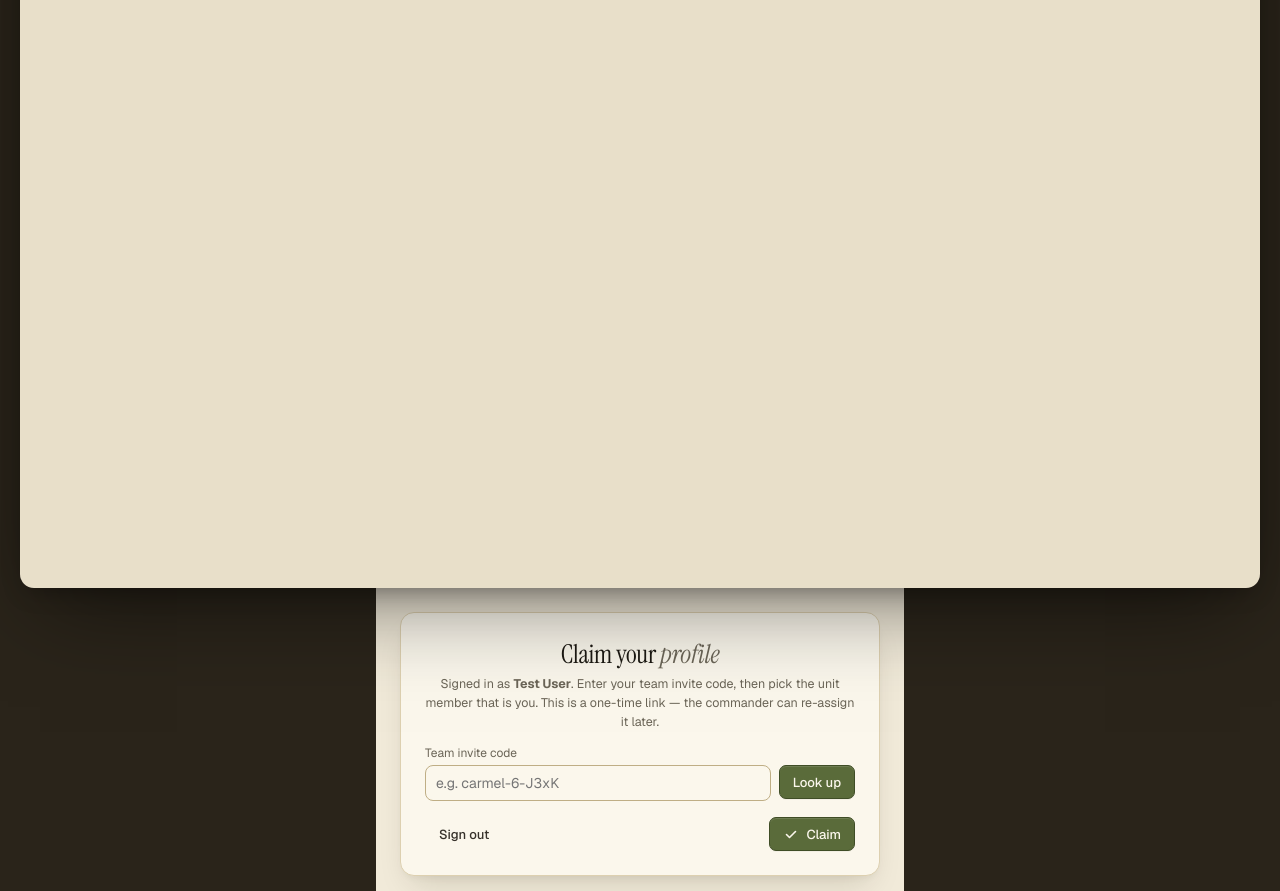
Test case: ClaimProfileScreen › shows "didn't match any team" when inspect_invite returns status=not_found
This screenshot has width=1280, height=891.
(page scrolled)
Type "zzz-bogus" into the field with placeholder "e.g. carmel-6-J3xK" at (598, 783), box [425,765,771,801]
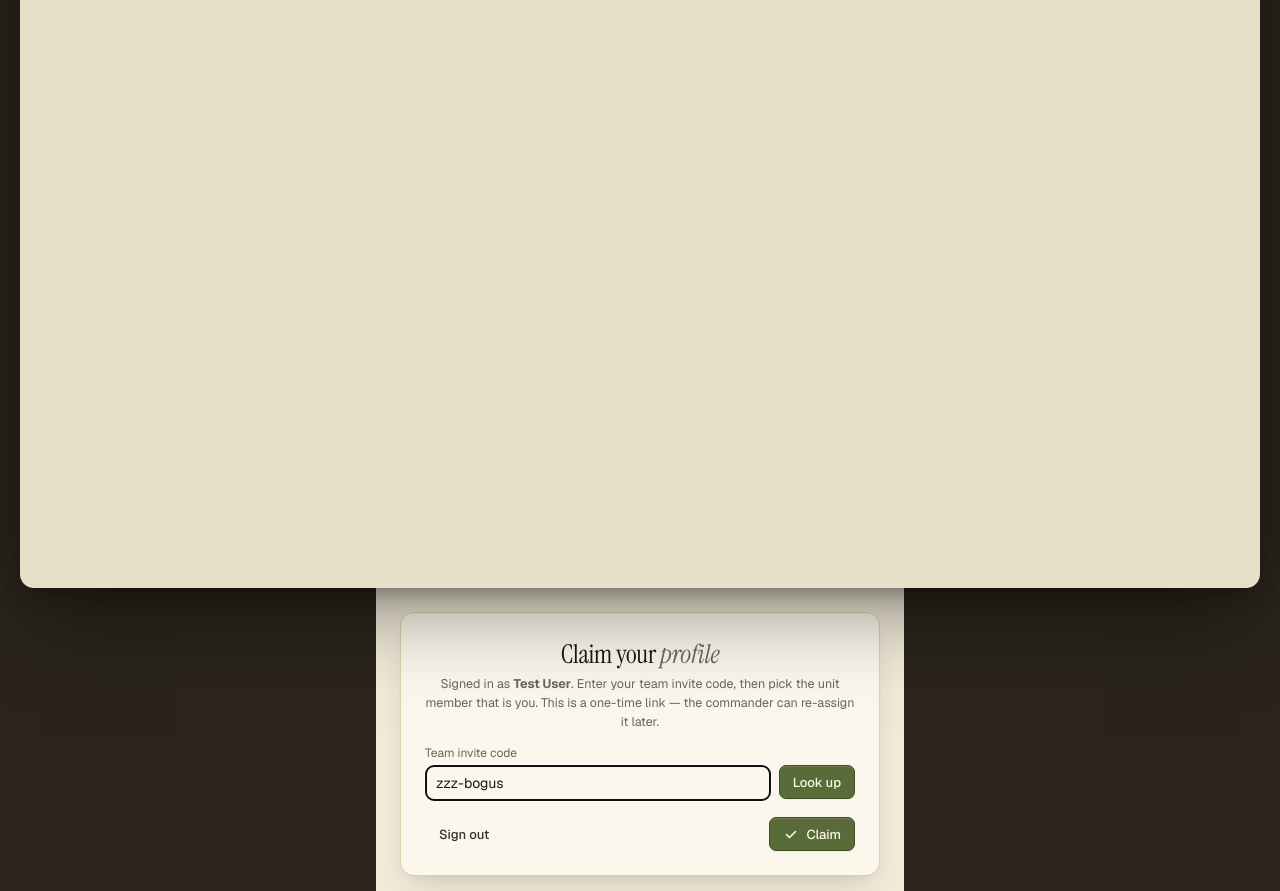
Click the button "Look up" at (817, 782), box [779,765,855,799]
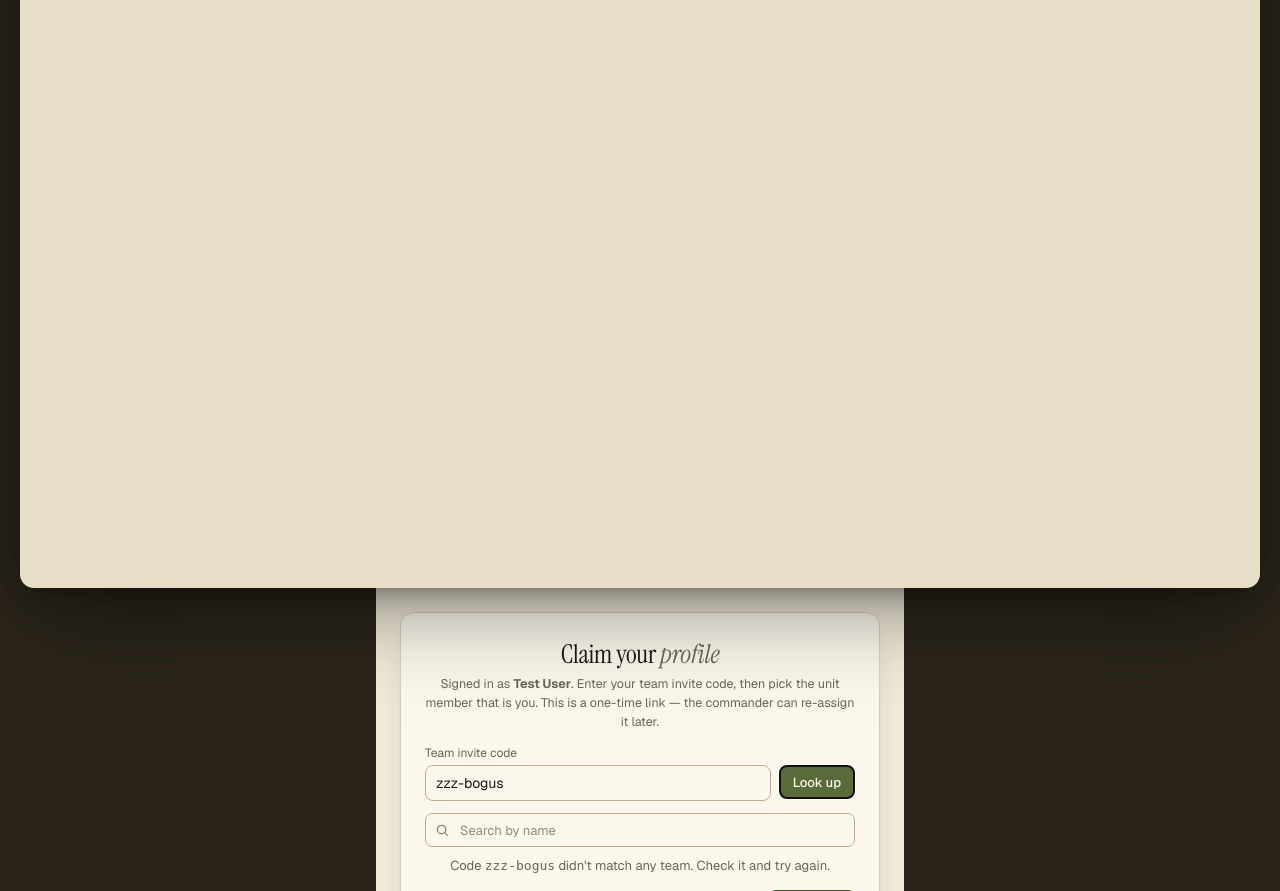
Result: the text "didn't match any team" is shown at [555,857,830,874]
